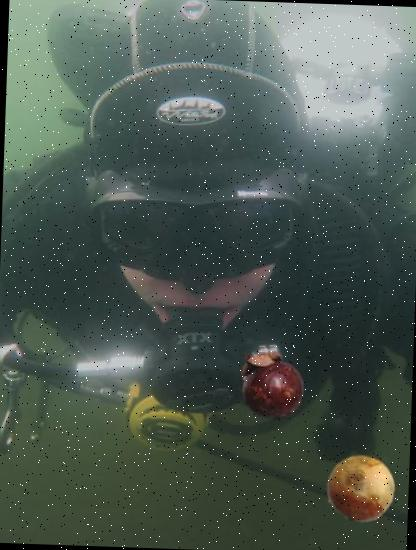Mangostan: (233, 344, 312, 423)
Onion: (324, 452, 396, 524)
